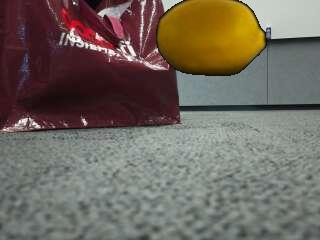lemon: (157, 0, 265, 74)
